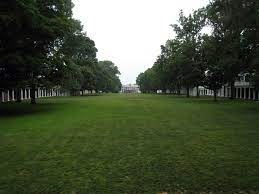grass: (1, 96, 255, 191)
